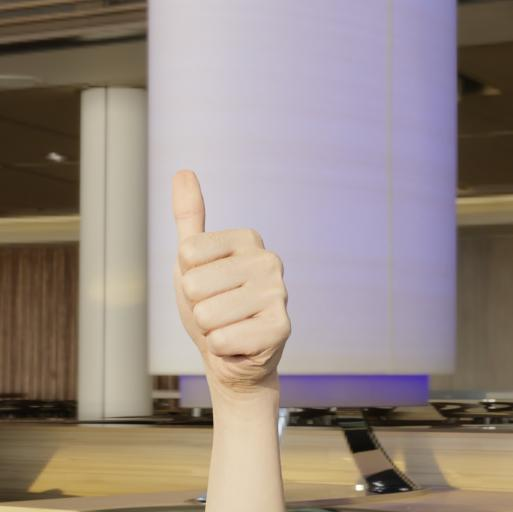thumbs-up: (169, 165, 295, 390)
